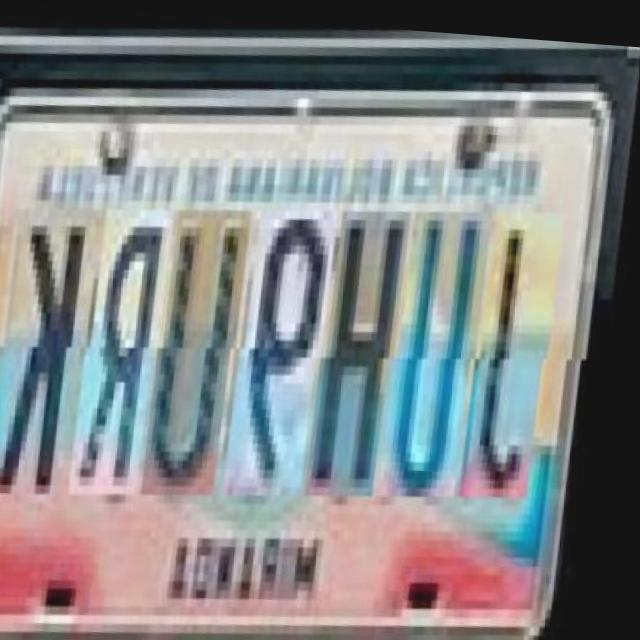9: (235, 196, 338, 492)
h: (317, 196, 410, 493)
j: (471, 197, 565, 494)
k: (0, 195, 98, 499)
r: (81, 196, 174, 492)
u: (389, 197, 492, 493), (152, 196, 252, 492)
